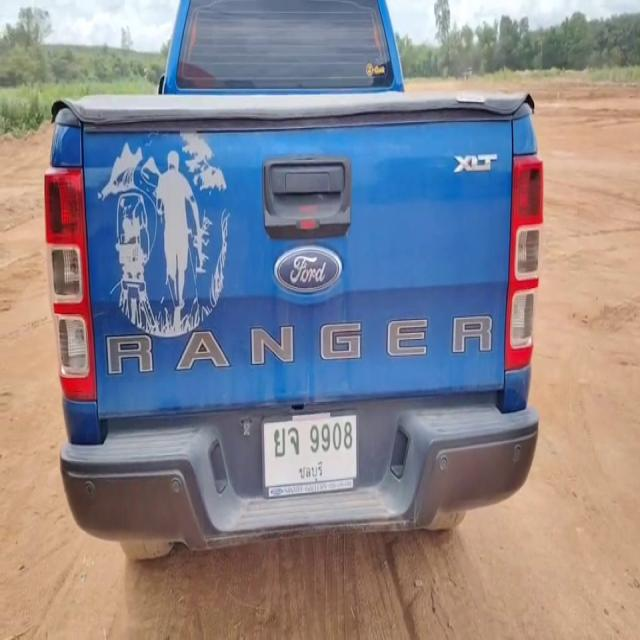Digit: (308, 420, 354, 457)
Licenseplate: (264, 414, 358, 492)
Provincename: (299, 460, 324, 484)
Thaichar: (273, 424, 299, 459)
